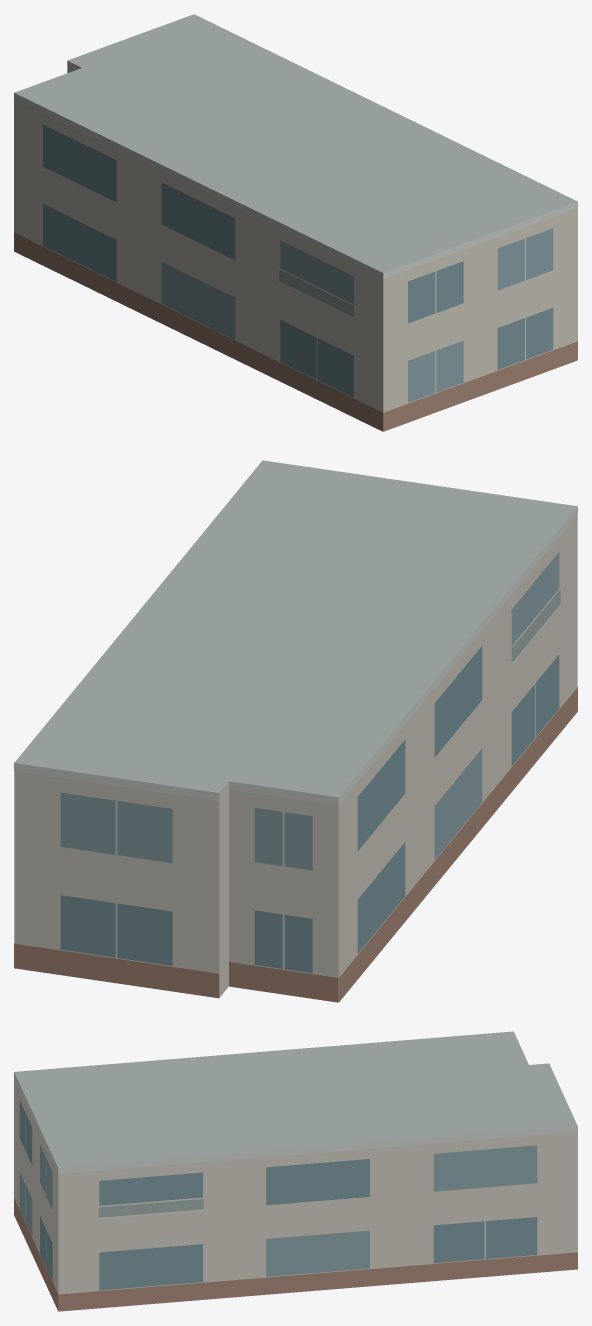
Rendered from survey-upis-32708918.glb.
The picture shows the model from 3 angles, top to bottom: view 1: azimuth 30°, elevation 25°; view 2: azimuth 150°, elevation 25°; view 3: azimuth 270°, elevation 25°; orthographic projection. The views are drawn at different scales.
Visible parts, largest first — view 1: survey-upis-32708918.tmp; view 2: survey-upis-32708918.tmp; view 3: survey-upis-32708918.tmp.
Boxes of the visible parts, x1,y1,x2,y2 form: survey-upis-32708918.tmp: (14, 14, 577, 431); survey-upis-32708918.tmp: (14, 460, 577, 1002); survey-upis-32708918.tmp: (14, 1031, 577, 1311).
Bounding box in the file's own units: 12.53 × 6.1 × 21.78.
